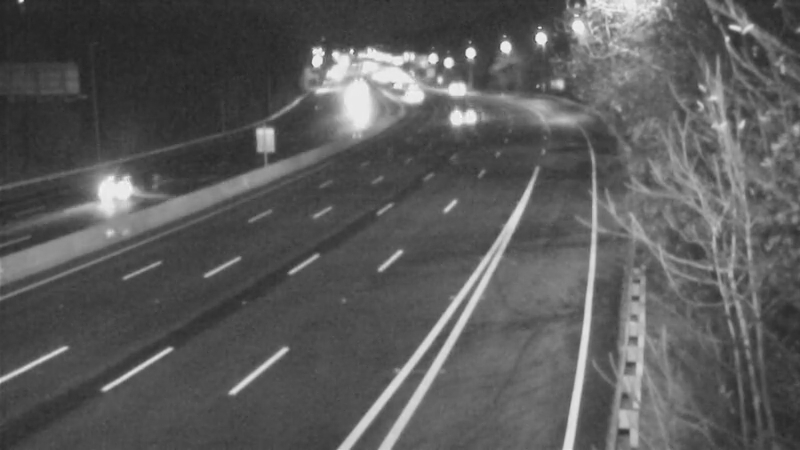vehicle: (70, 148, 150, 228), (433, 65, 483, 115), (385, 72, 435, 122), (432, 87, 482, 137)
